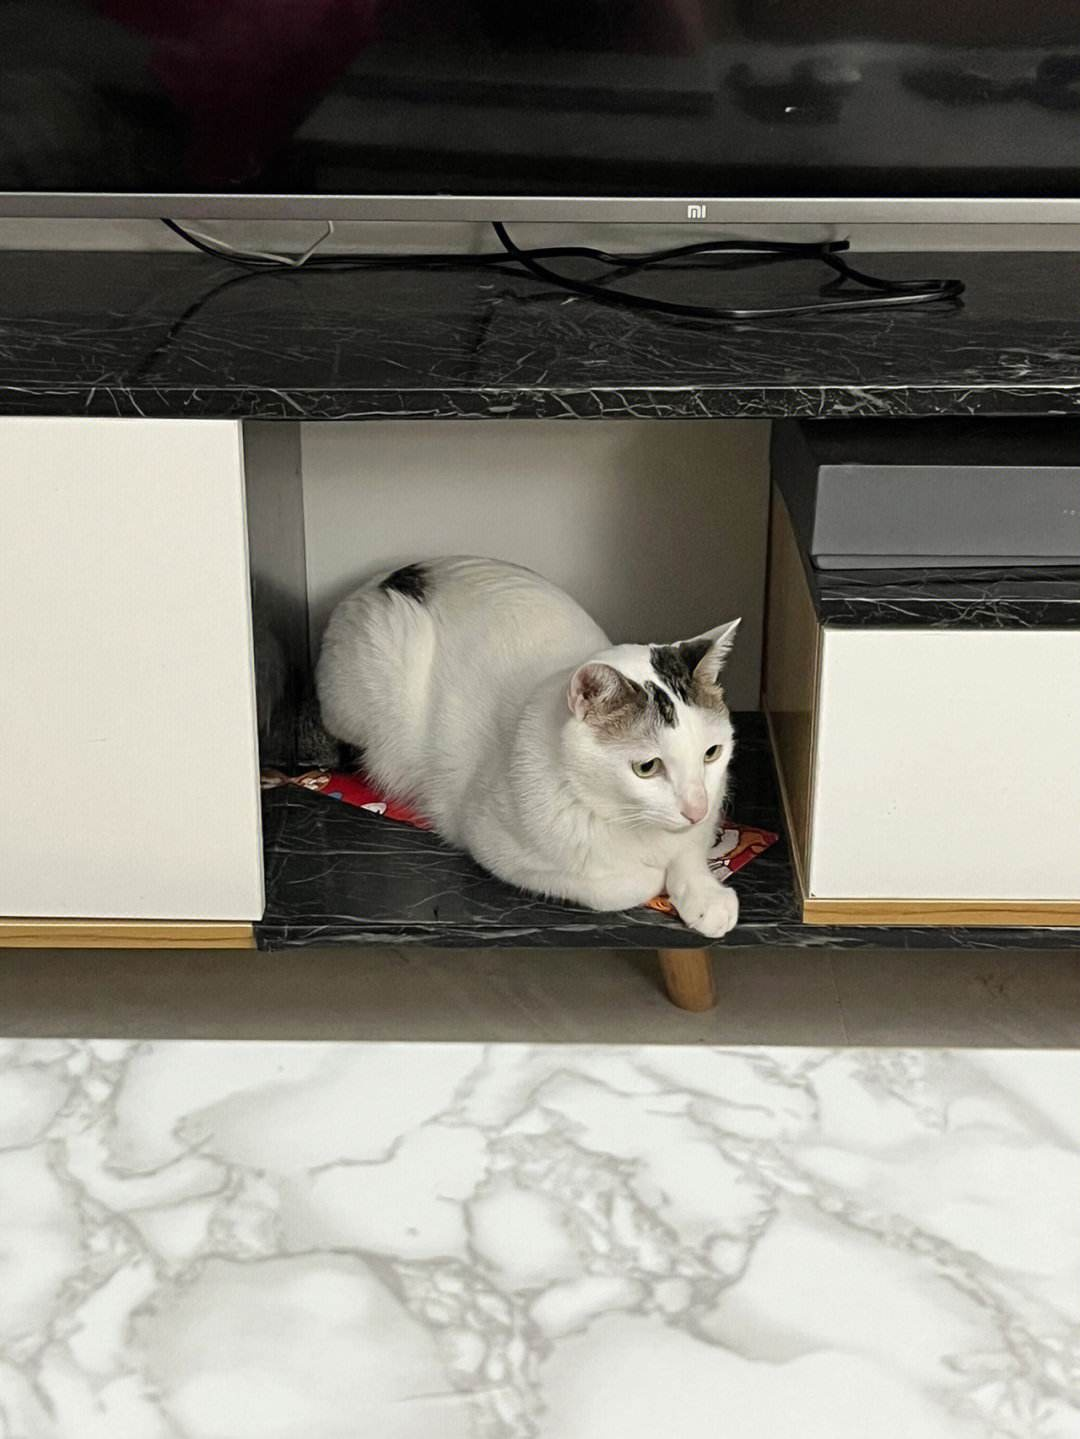cat: (319, 556, 741, 937)
